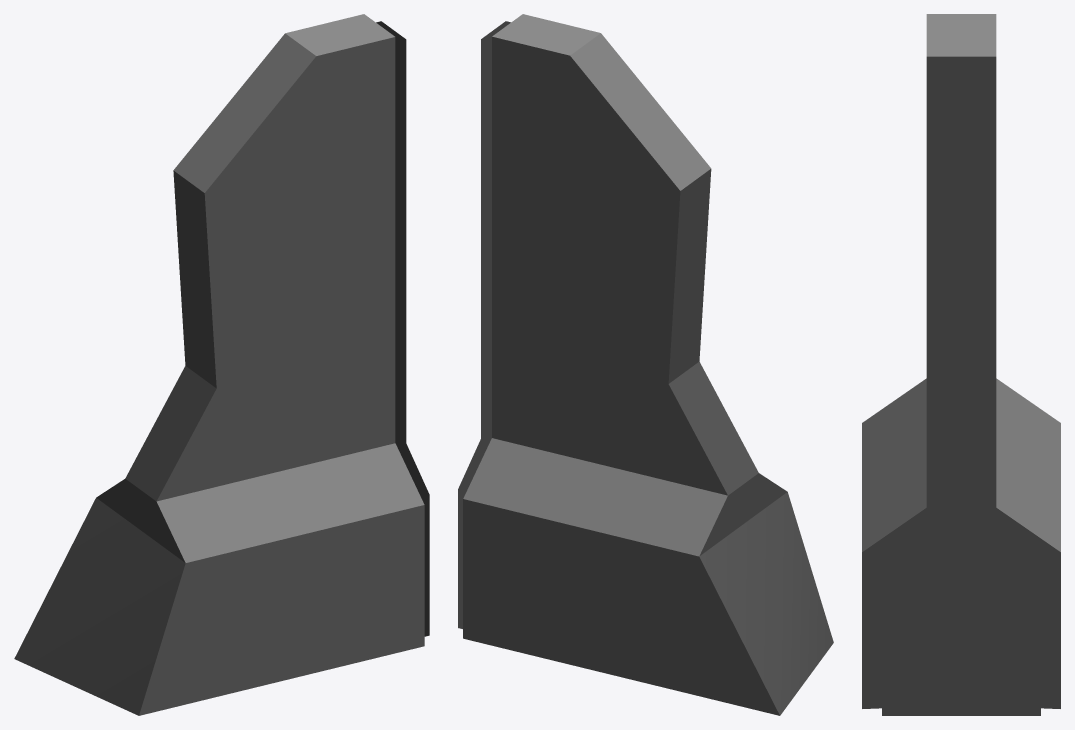
File: SM_Prop_Wall_Concrete_Damaged_02.fbx
The picture shows the model from 3 angles, left to right: view 1: azimuth 30°, elevation 25°; view 2: azimuth 150°, elevation 25°; view 3: azimuth 270°, elevation 25°; orthographic projection. The views are drawn at different scales.
Visible parts, largest first — view 1: SM_Prop_Wall_Concrete_Damaged_02; view 2: SM_Prop_Wall_Concrete_Damaged_02; view 3: SM_Prop_Wall_Concrete_Damaged_02.
Boxes of the visible parts, x1,y1,x2,y2 form: SM_Prop_Wall_Concrete_Damaged_02: (14, 14, 429, 715); SM_Prop_Wall_Concrete_Damaged_02: (458, 14, 833, 715); SM_Prop_Wall_Concrete_Damaged_02: (862, 14, 1060, 715).
Size of the model in its own units: 3.31 by 5.55 by 1.53.
